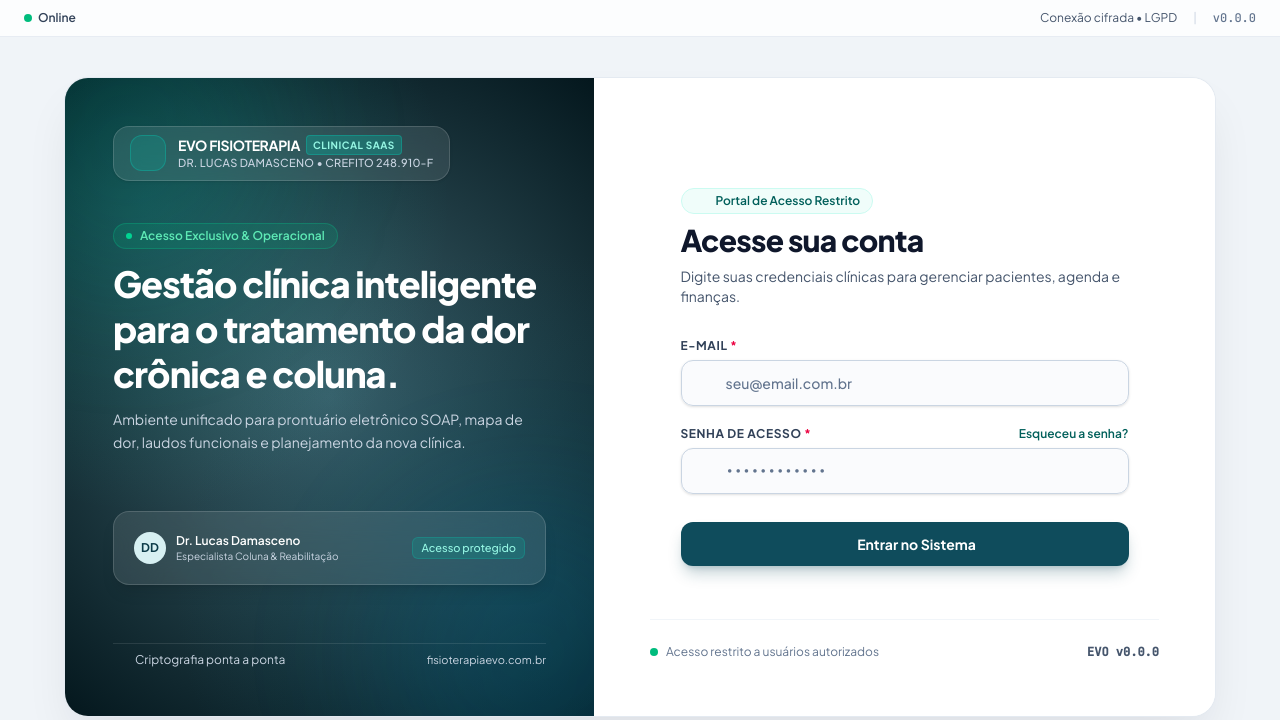
Test case: LoginTela › só a senha vazia leva o foco para a senha
The width and height of the screenshot is (1280, 720).
Type "lucas@clinica.com" into the field labelled "E-mail *" at (904, 382), box [680,360,1128,406]
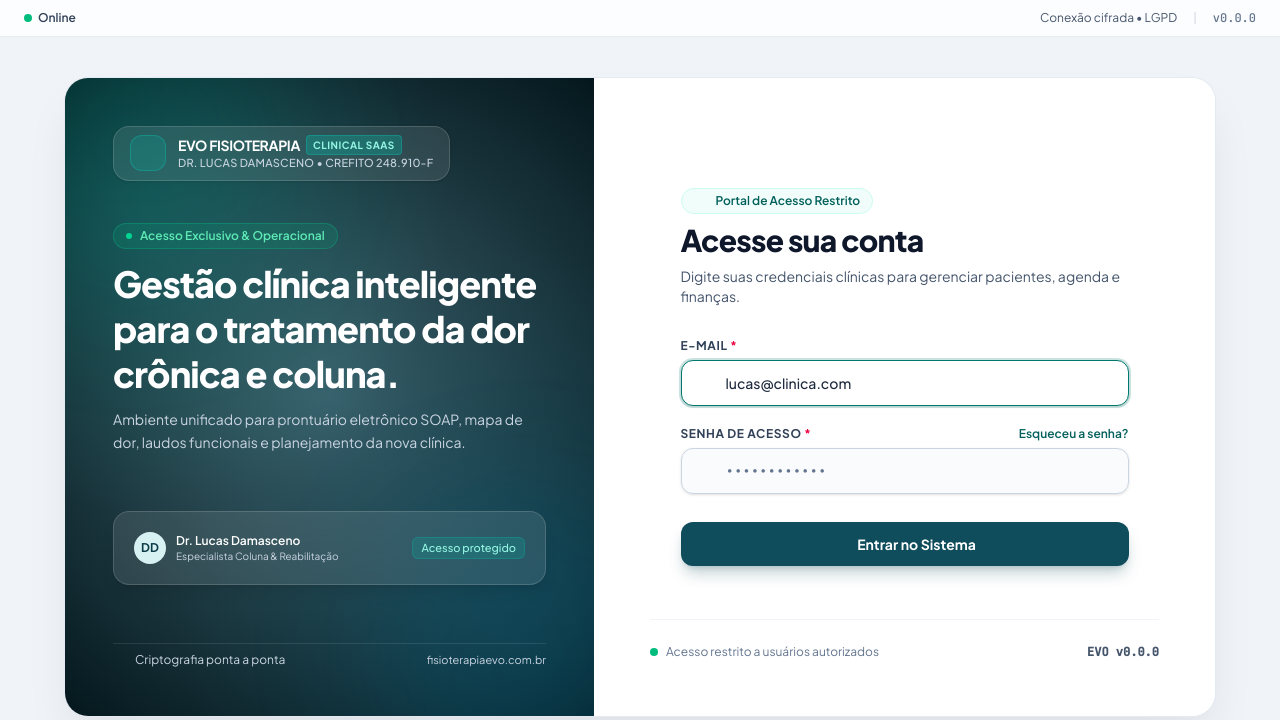
Click the button "Entrar no Sistema" at (904, 544), box [680,522,1128,566]
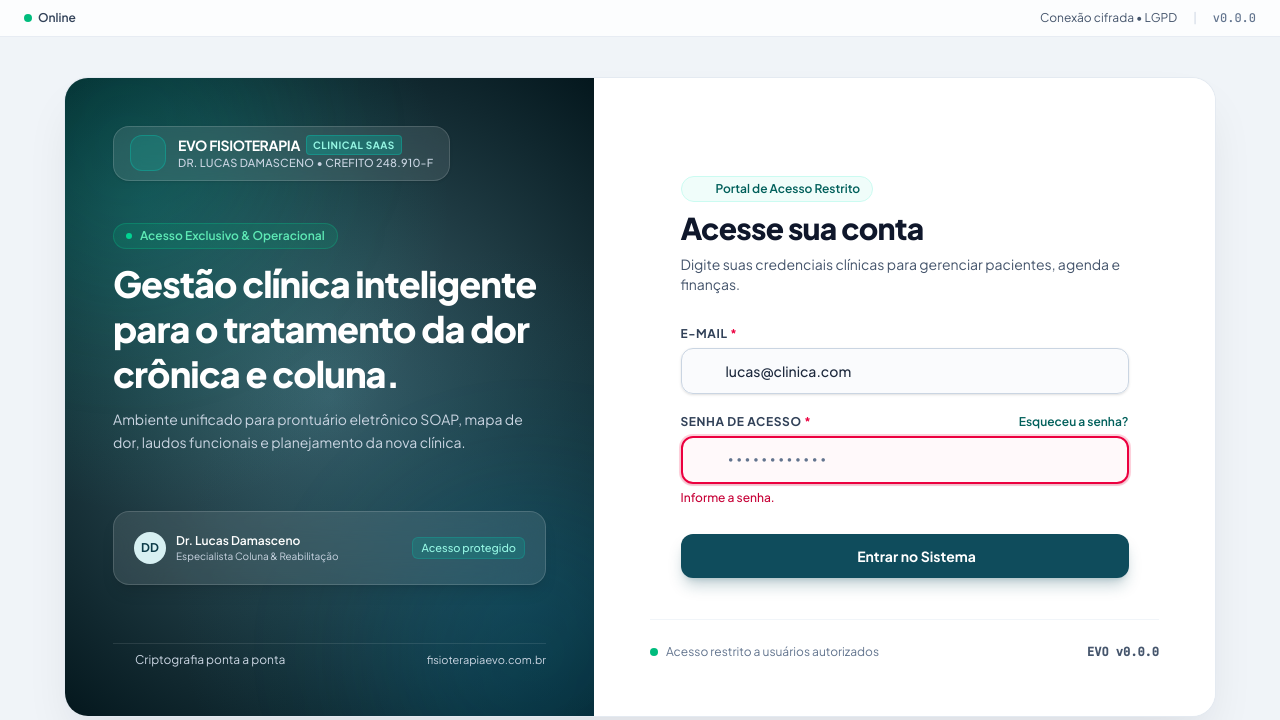
Now the text "Informe a senha." is shown, box [680,490,775,504]
